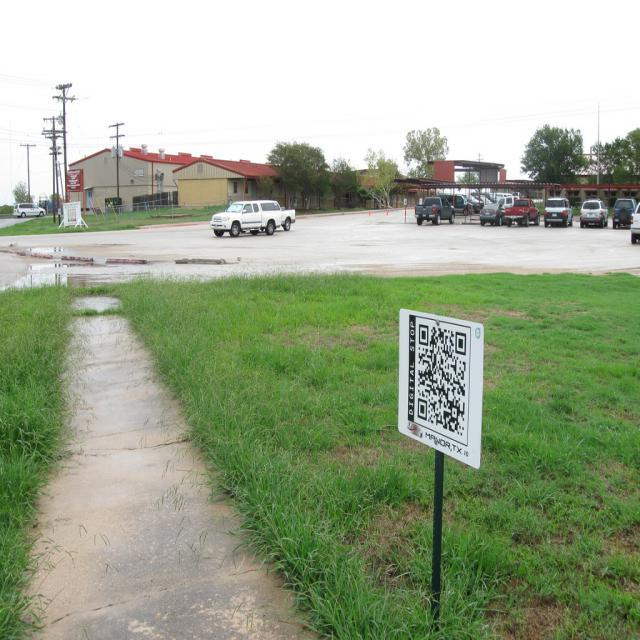qrcode: (419, 325, 467, 438)
